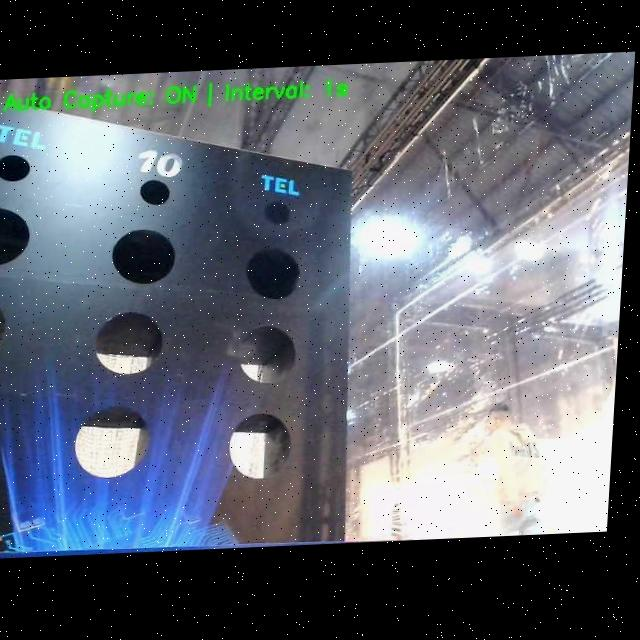hole: (74, 404, 151, 479), (228, 412, 294, 481), (94, 311, 164, 375), (110, 228, 177, 285), (237, 324, 297, 384), (246, 246, 302, 300), (0, 206, 33, 265), (0, 154, 31, 183), (139, 179, 171, 207), (265, 201, 291, 225), (0, 298, 4, 353)
